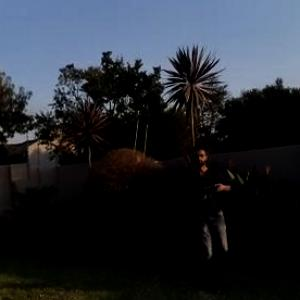follow: (189, 143, 251, 299)
